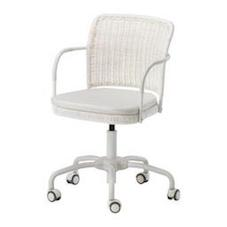chair: (8, 8, 217, 217)
